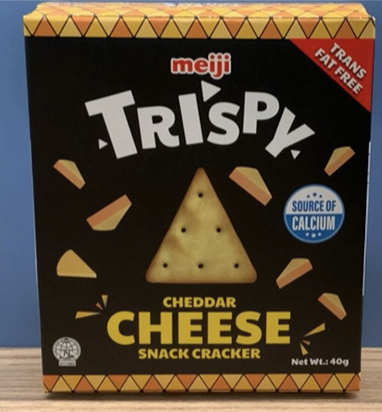crackers_1g-99g: (49, 36, 362, 370)
